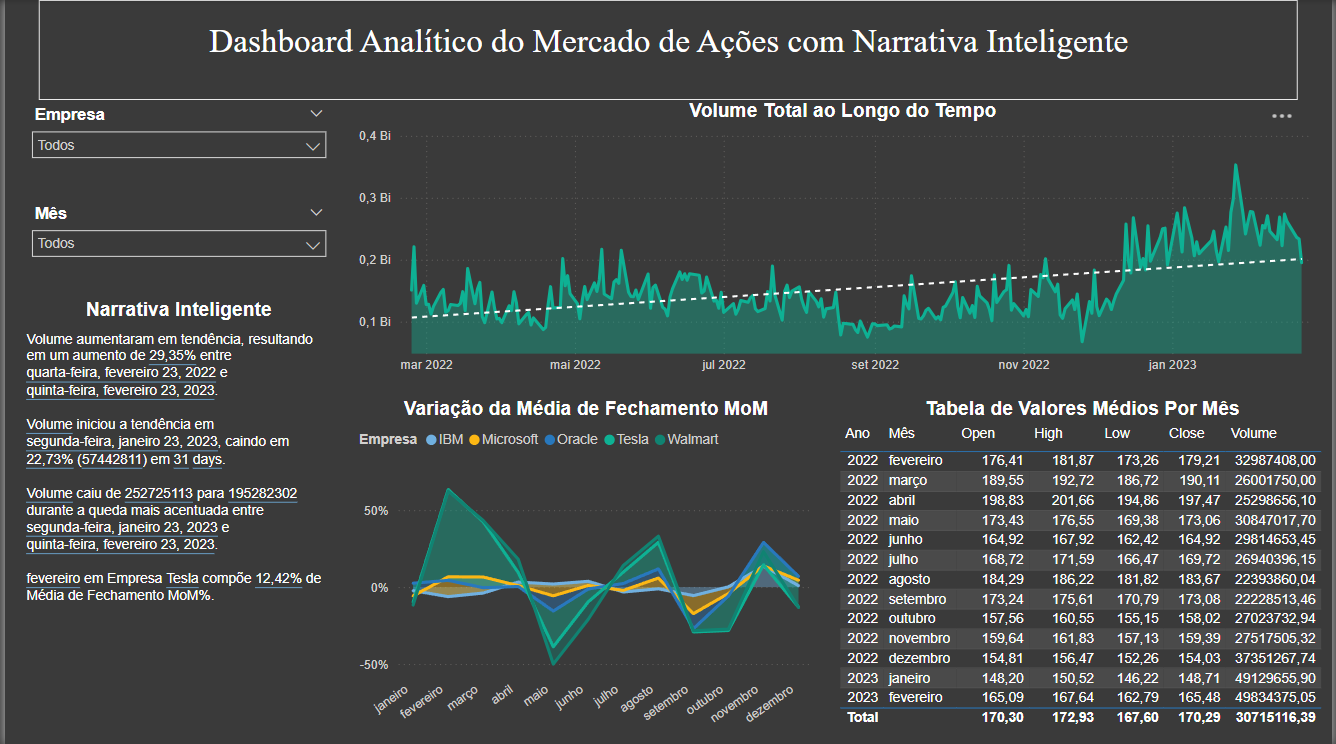

Layout of this report page (visuals, bound fields, positions):
{"tool":"powerbi","page":{"name":"Página 1","canvas":[1280,720],"ordinal":0},"visuals":[{"type":"stackedAreaChart","title":"Variação da Média de Fechamento MoM","fields":{"Category":["StockMarket.Data.Variation.Hierarquia de datas.Mês"],"Series":["StockMarket.Empresa"],"Y":["StockMarket.Média de Close MoM%"]},"box":[336,384,448,336],"z":0},{"type":"tableEx","title":"Tabela de Valores Médios Por Mês","fields":{"Values":["StockMarket.Data.Variation.Hierarquia de datas.Ano","StockMarket.Data.Variation.Hierarquia de datas.Mês","Avg(StockMarket.Open)","Avg(StockMarket.High)","Avg(StockMarket.Low)","Avg(StockMarket.Close)","Avg(StockMarket.Volume)"]},"box":[800,384,480,336],"z":1000},{"type":"areaChart","title":"Volume Total ao Longo do Tempo","fields":{"Category":["StockMarket.Data.Variation.Hierarquia de datas.Ano","StockMarket.Data.Variation.Hierarquia de datas.Trimestre","StockMarket.Data.Variation.Hierarquia de datas.Mês","StockMarket.Data.Variation.Hierarquia de datas.Dia"],"Y":["Sum(StockMarket.Volume)"]},"box":[336,96,944,272],"z":2000},{"type":"slicer","fields":{"Values":["StockMarket.Empresa"]},"box":[16,96,304,80],"z":3000},{"type":"textbox","title":"Narrativa Inteligente","box":[16,288,304,432],"z":4000},{"type":"slicer","fields":{"Values":["StockMarket.Data.Variation.Hierarquia de datas.Mês"]},"box":[16,192,304,80],"z":5000},{"type":"textbox","box":[32,0,1216,96],"z":6000}]}

Visuals, with their boxes in screenshot pixels (x1, y1, x2, y2), scaled from the page's 1280x720 canvas onto the 1336x744 screenshot:
"Variação da Média de Fechamento MoM" stackedAreaChart: BBox(351, 397, 818, 743)
"Tabela de Valores Médios Por Mês" tableEx: BBox(835, 397, 1335, 743)
"Volume Total ao Longo do Tempo" areaChart: BBox(351, 99, 1335, 380)
slicer - StockMarket.Empresa: BBox(17, 99, 334, 182)
"Narrativa Inteligente" textbox: BBox(17, 298, 334, 743)
slicer - StockMarket.Data.Variation.Hierarquia de datas.Mês: BBox(17, 198, 334, 281)
textbox: BBox(33, 0, 1303, 99)
